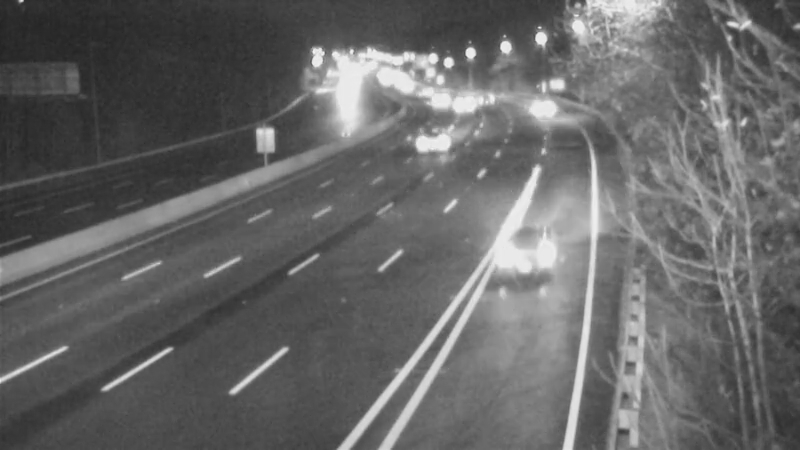vehicle: (470, 217, 550, 297), (398, 64, 448, 114), (409, 73, 459, 123), (458, 71, 508, 121), (514, 78, 564, 128), (434, 79, 484, 129), (412, 113, 462, 163)
